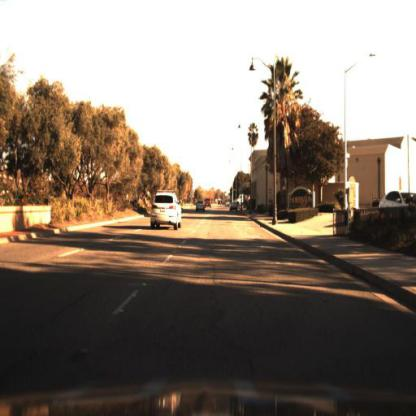car: (143, 184, 194, 235), (192, 195, 209, 216), (229, 195, 243, 216), (203, 195, 213, 209)
truck: (237, 188, 252, 211)
